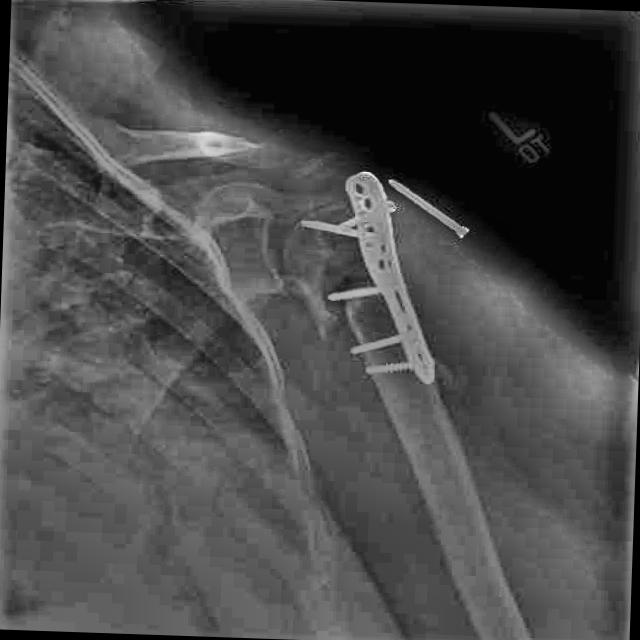shoulder fracture: (244, 238, 358, 345)
